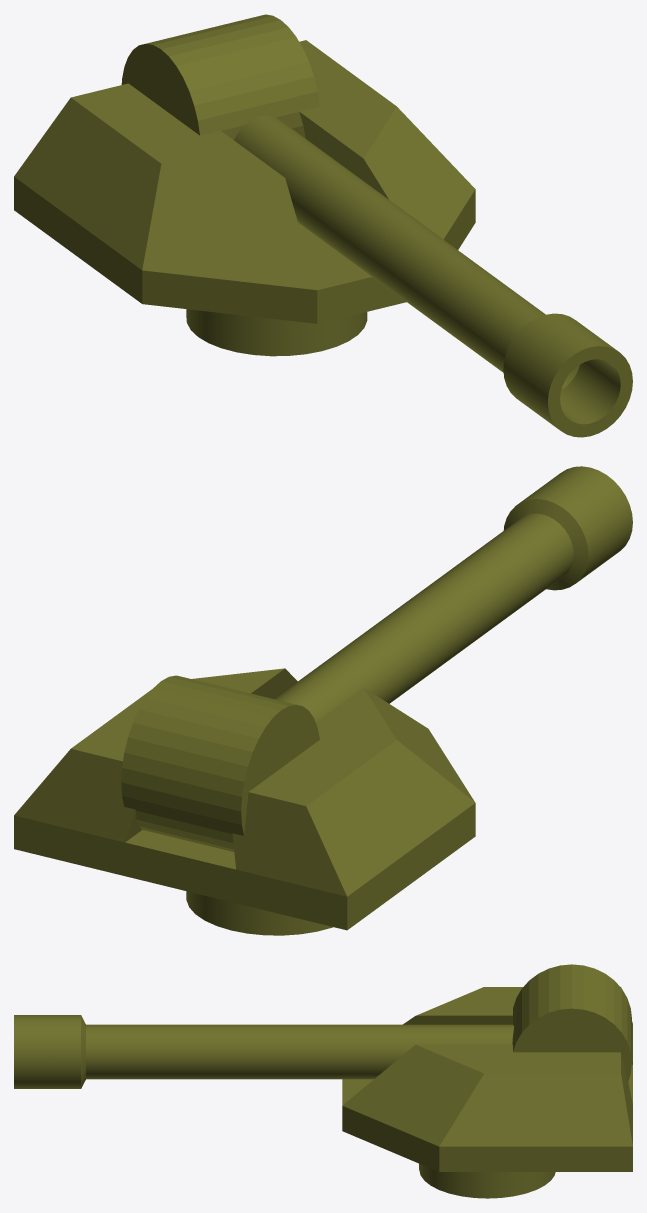
File: TurretHead.fbx
The picture shows the model from 3 angles, top to bottom: view 1: azimuth 30°, elevation 25°; view 2: azimuth 150°, elevation 25°; view 3: azimuth 270°, elevation 25°; orthographic projection. The views are drawn at different scales.
Visible parts, largest first — view 1: Cube, Cylinder.002, Cylinder.003, Cylinder.001; view 2: Cube, Cylinder.002, Cylinder.003, Cylinder.001; view 3: Cube, Cylinder.002, Cylinder.003, Cylinder.001.
Part boxes in pixels (bbox=[...]): Cube: bbox=[14, 40, 475, 323]; Cylinder.002: bbox=[234, 116, 632, 437]; Cylinder.003: bbox=[121, 14, 319, 139]; Cylinder.001: bbox=[186, 309, 367, 356]; Cube: bbox=[14, 668, 475, 930]; Cylinder.002: bbox=[274, 466, 632, 722]; Cylinder.003: bbox=[121, 675, 319, 851]; Cylinder.001: bbox=[186, 891, 333, 935]; Cube: bbox=[342, 987, 632, 1171]; Cylinder.002: bbox=[14, 1015, 513, 1088]; Cylinder.003: bbox=[512, 964, 631, 1082]; Cylinder.001: bbox=[419, 1163, 555, 1198].
Size of the model in its own units: 264 by 183 by 562.
